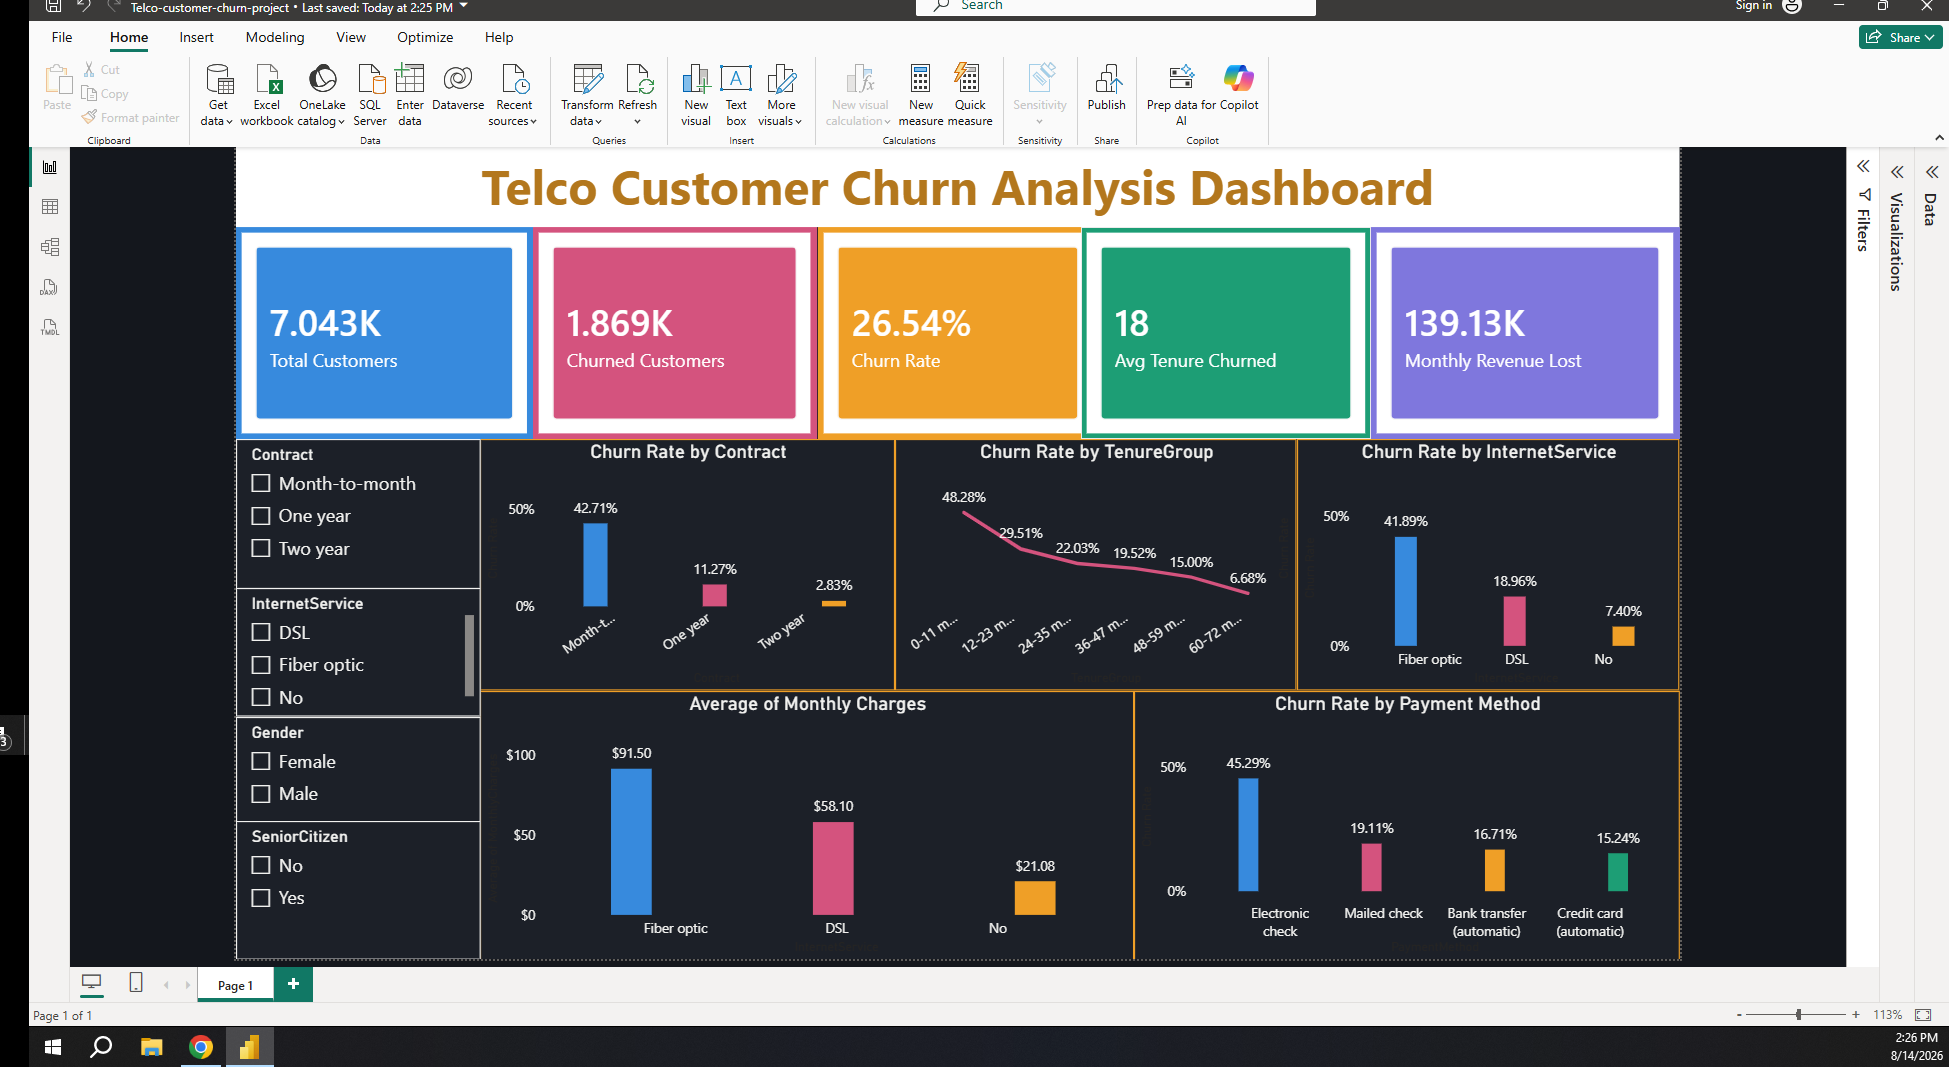

The page's visual inventory and layout, read from the dashboard file:
{"tool":"powerbi","page":{"name":"Page 1","canvas":[1280,720],"ordinal":0},"visuals":[{"type":"cardVisual","fields":{"Data":["CountNonNull(Table1.customerID)"]},"box":[0,70.6,263.7,188.1],"z":0},{"type":"cardVisual","fields":{"Data":["CountNonNull(Table1.customerID)"]},"box":[263.7,70.6,252,188.1],"z":1000},{"type":"cardVisual","fields":{"Data":["Table1.Churn Rate"]},"box":[515.7,70.6,248.6,188.1],"z":2000},{"type":"cardVisual","fields":{"Data":["Table1.Avg Tenure Churned"]},"box":[749.2,70.6,257,188.1],"z":3000},{"type":"cardVisual","fields":{"Data":["Table1.Monthly Revenue Lost"]},"box":[1006.2,70.6,273.8,188.1],"z":4000},{"type":"clusteredColumnChart","title":"Churn Rate by Contract","fields":{"Category":["Table1.Contract"],"Y":["Table1.Churn Rate"],"Series":["Table1.Contract"]},"box":[216.7,258.7,367.9,223.4],"z":4001},{"type":"lineChart","fields":{"Category":["Table1.TenureGroup"],"Y2":["Table1.Churn Rate"]},"box":[584.6,258.7,356.1,223.4],"z":4002},{"type":"clusteredColumnChart","title":"Churn Rate by InternetService","fields":{"Category":["Table1.InternetService"],"Y":["Table1.Churn Rate"],"Series":["Table1.InternetService"]},"box":[940.7,258.7,339.3,223.4],"z":4003},{"type":"clusteredColumnChart","title":"Average of Monthly Charges","fields":{"Category":["Table1.InternetService"],"Y":["Avg(Table1.MonthlyCharges)"],"Series":["Table1.InternetService"]},"box":[216.7,482.1,579.5,238.5],"z":4004},{"type":"clusteredColumnChart","title":"Churn Rate by Payment Method","fields":{"Category":["Table1.PaymentMethod"],"Y":["Table1.Churn Rate"],"Series":["Table1.PaymentMethod"]},"box":[796.2,482.1,483.8,238.5],"z":4005},{"type":"slicer","fields":{"Values":["Table1.Contract"]},"box":[0,258.7,216.7,132.7],"z":4006},{"type":"slicer","fields":{"Values":["Table1.InternetService"]},"box":[0,391.4,216.7,114.2],"z":4007},{"type":"slicer","fields":{"Values":["Table1.gender"]},"box":[0,505.8,216.9,95.3],"z":4008},{"type":"slicer","fields":{"Values":["Table1.SeniorCitizen"]},"box":[0,598,216.7,122.6],"z":4009},{"type":"textbox","box":[0,0,1280,70.6],"z":4010}]}

Visuals, with their boxes on the page's 1280x720 design canvas (x1, y1, x2, y2). These are canvas units, not pixel positions in the 1949x1067 screenshot, which may show the page scaled, cropped or inside an application window:
cardVisual - CountNonNull(Table1.customerID): 0,71,264,259
cardVisual - CountNonNull(Table1.customerID): 264,71,516,259
cardVisual - Table1.Churn Rate: 516,71,764,259
cardVisual - Table1.Avg Tenure Churned: 749,71,1006,259
cardVisual - Table1.Monthly Revenue Lost: 1006,71,1280,259
"Churn Rate by Contract" clusteredColumnChart: 217,259,585,482
lineChart - Table1.TenureGroup x Table1.Churn Rate: 585,259,941,482
"Churn Rate by InternetService" clusteredColumnChart: 941,259,1280,482
"Average of Monthly Charges" clusteredColumnChart: 217,482,796,721
"Churn Rate by Payment Method" clusteredColumnChart: 796,482,1280,721
slicer - Table1.Contract: 0,259,217,391
slicer - Table1.InternetService: 0,391,217,506
slicer - Table1.gender: 0,506,217,601
slicer - Table1.SeniorCitizen: 0,598,217,721
textbox: 0,0,1280,71
